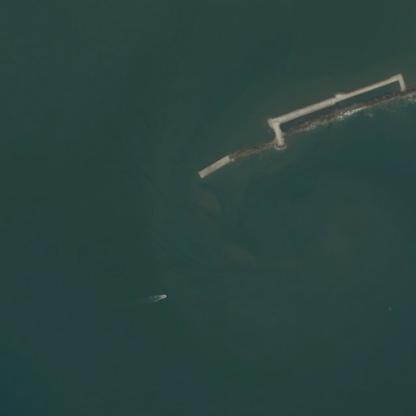ship: (161, 294, 164, 297)
